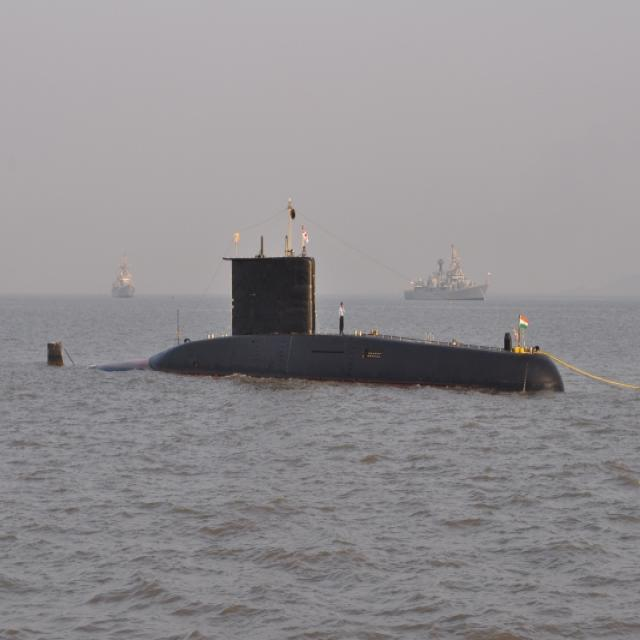submarine: (47, 260, 570, 390)
